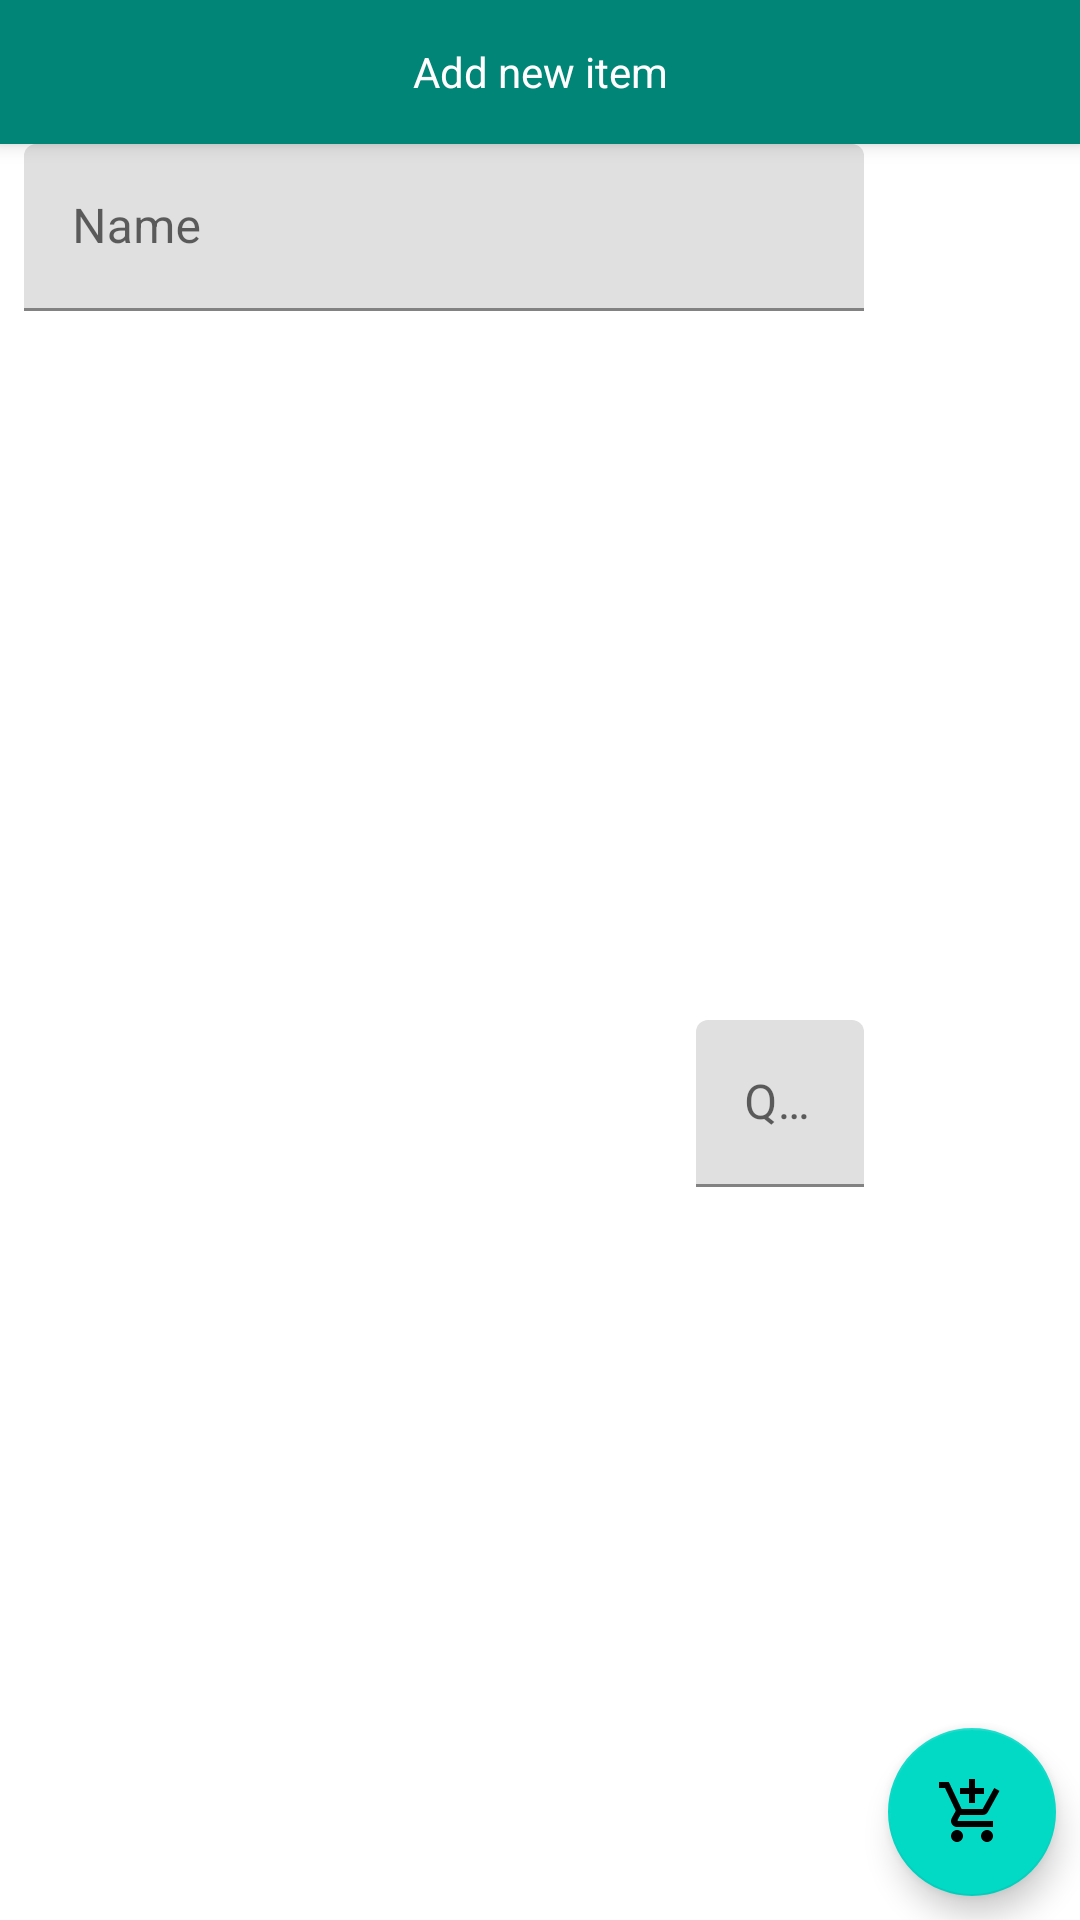

Locate icon controls on the screen. Image size 1080px x 1920px, boxes as (x1, y1, x2, y2).
add shopping cart: (888, 1728, 1056, 1896)
